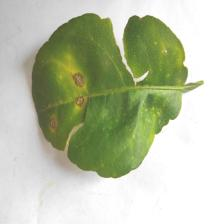canker: (38, 49, 160, 137)
